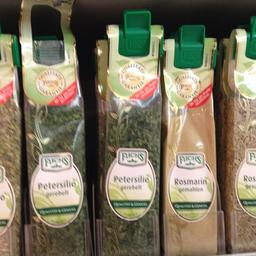spices: (18, 28, 90, 254), (97, 23, 161, 255), (162, 36, 218, 254), (226, 28, 254, 252)
